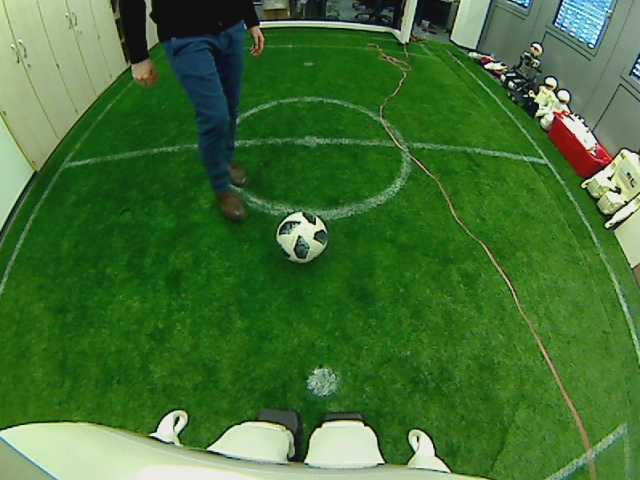ball: (276, 212, 327, 263)
